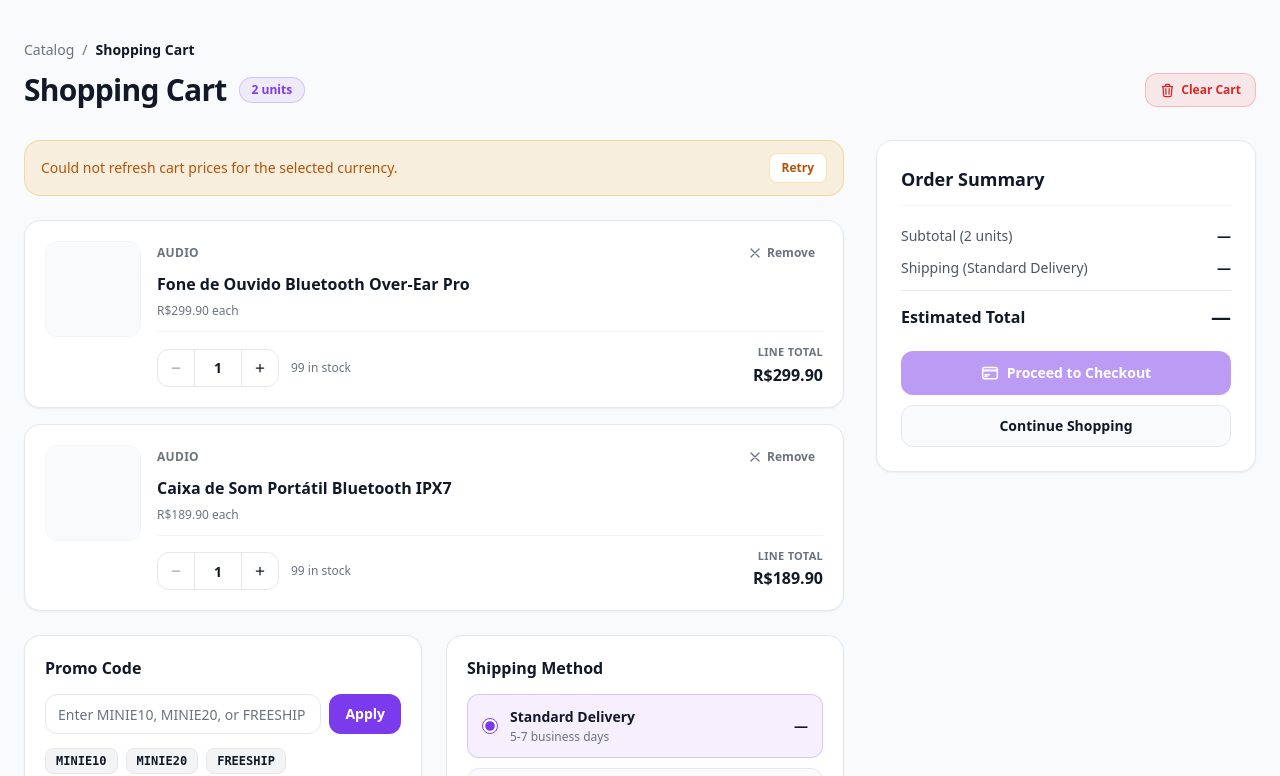
Test: MiniCart progressive multi-currency repricing (Phase 6.1) › rejects incomplete quotes with quoteError and keeps CartPage shipping/summary amounts hidden while currency mismatches
Expected: the text "Could not refresh cart prices for the selected currency." is shown, top-left (41, 158), bottom-right (398, 178)
Expected: the text "more for free Standard Delivery" is not shown
// Retry recovers full USD quote and restores formatted amounts + free-shipping prompt
What coordinates should you click on to do the following:
click the button "Retry"
I would click on:
 (798, 168)
Its box is top-left (768, 153), bottom-right (827, 183).
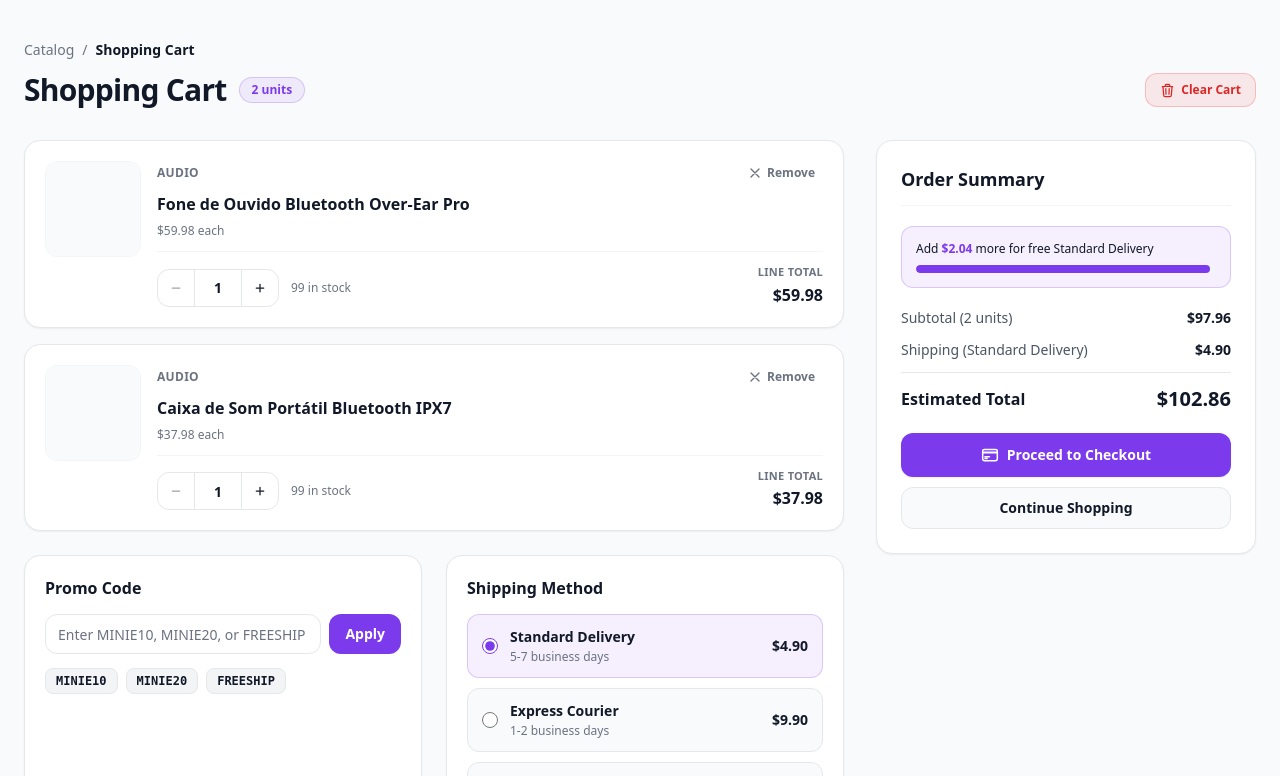
Expected: the text "Add $2.04 more for free Standard Delivery" is shown, top-left (916, 240), bottom-right (1154, 257)
Expected: the button "Proceed to Checkout" is enabled, top-left (901, 433), bottom-right (1231, 477)
